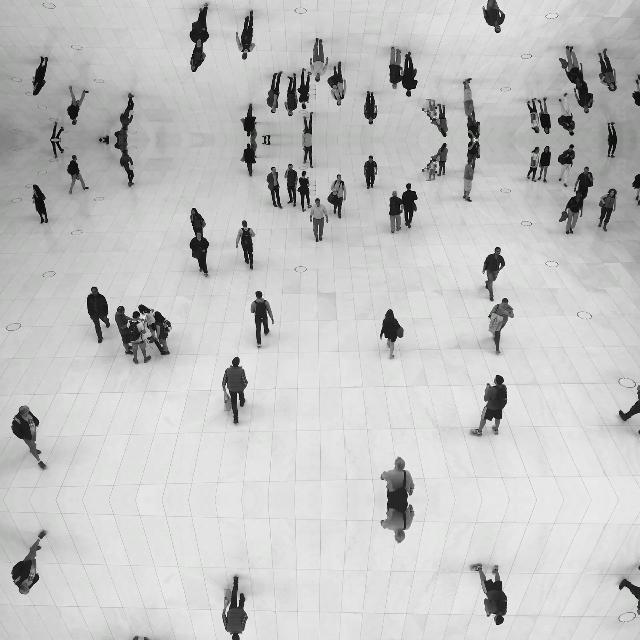person: (470, 375, 508, 437), (470, 563, 508, 625), (11, 406, 47, 468), (11, 532, 47, 594), (222, 356, 248, 424), (221, 576, 248, 640), (380, 456, 416, 499), (380, 501, 416, 544), (489, 298, 515, 354), (250, 291, 274, 349), (86, 286, 110, 344), (482, 247, 506, 301), (128, 312, 152, 364), (380, 309, 404, 359), (236, 220, 256, 270), (236, 10, 256, 60), (149, 312, 171, 356), (189, 230, 209, 278), (66, 154, 90, 194), (189, 2, 209, 50), (66, 86, 90, 126), (564, 190, 584, 236), (564, 44, 584, 90), (115, 306, 134, 354), (598, 188, 618, 232), (572, 74, 594, 114), (598, 48, 618, 92), (572, 167, 594, 206), (138, 304, 158, 344), (310, 198, 328, 242), (558, 144, 576, 188), (310, 38, 328, 82), (558, 92, 576, 136), (619, 385, 640, 422), (619, 577, 640, 614), (482, 0, 505, 33), (402, 183, 418, 229), (402, 51, 418, 97), (388, 190, 404, 234), (330, 174, 346, 218), (388, 46, 404, 90), (330, 62, 346, 106), (266, 167, 282, 209), (296, 170, 312, 212), (266, 71, 282, 113), (296, 68, 312, 110), (32, 184, 48, 224), (32, 56, 48, 96), (284, 163, 298, 207), (462, 158, 476, 202), (284, 73, 298, 117), (462, 78, 476, 122), (120, 149, 134, 187), (120, 93, 134, 131), (190, 208, 206, 240), (190, 40, 206, 72), (526, 146, 540, 182), (538, 146, 552, 182), (526, 98, 540, 134), (538, 98, 552, 134), (364, 155, 378, 189), (364, 91, 378, 125), (242, 144, 256, 176), (242, 104, 256, 136), (436, 143, 448, 177), (436, 103, 448, 137), (302, 140, 314, 168), (467, 140, 481, 164), (302, 112, 314, 140), (467, 116, 481, 140), (427, 158, 438, 182), (427, 98, 438, 122), (114, 140, 128, 158), (50, 140, 64, 158), (114, 122, 128, 140), (50, 122, 64, 140), (608, 140, 618, 158), (608, 122, 618, 140), (635, 170, 640, 205), (635, 74, 640, 109), (127, 635, 152, 640), (250, 140, 258, 152), (250, 128, 258, 140), (98, 140, 110, 144), (262, 140, 270, 146), (98, 136, 110, 140), (262, 134, 270, 140)
